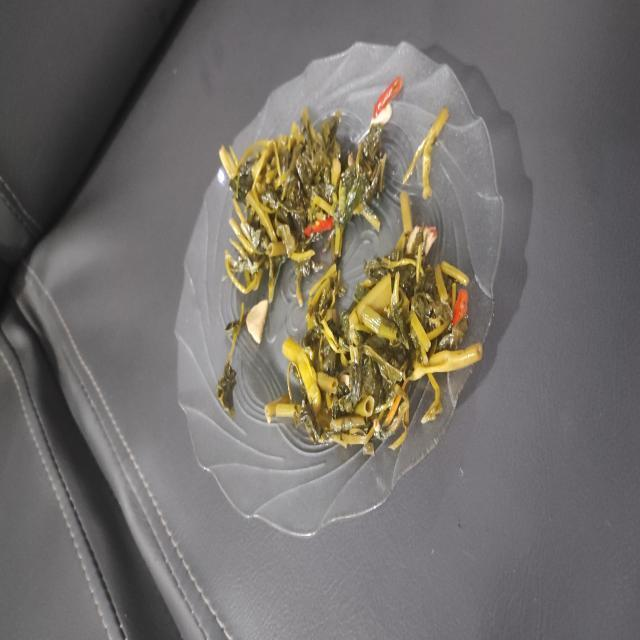tumis_kangkung: (265, 192, 482, 455), (220, 77, 403, 300)
